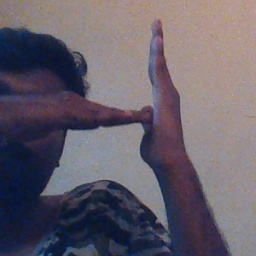Z: (85, 18, 189, 174)
